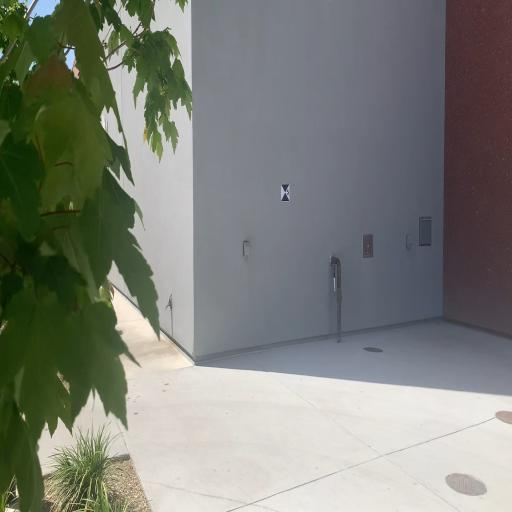target5: (281, 183, 290, 202)
